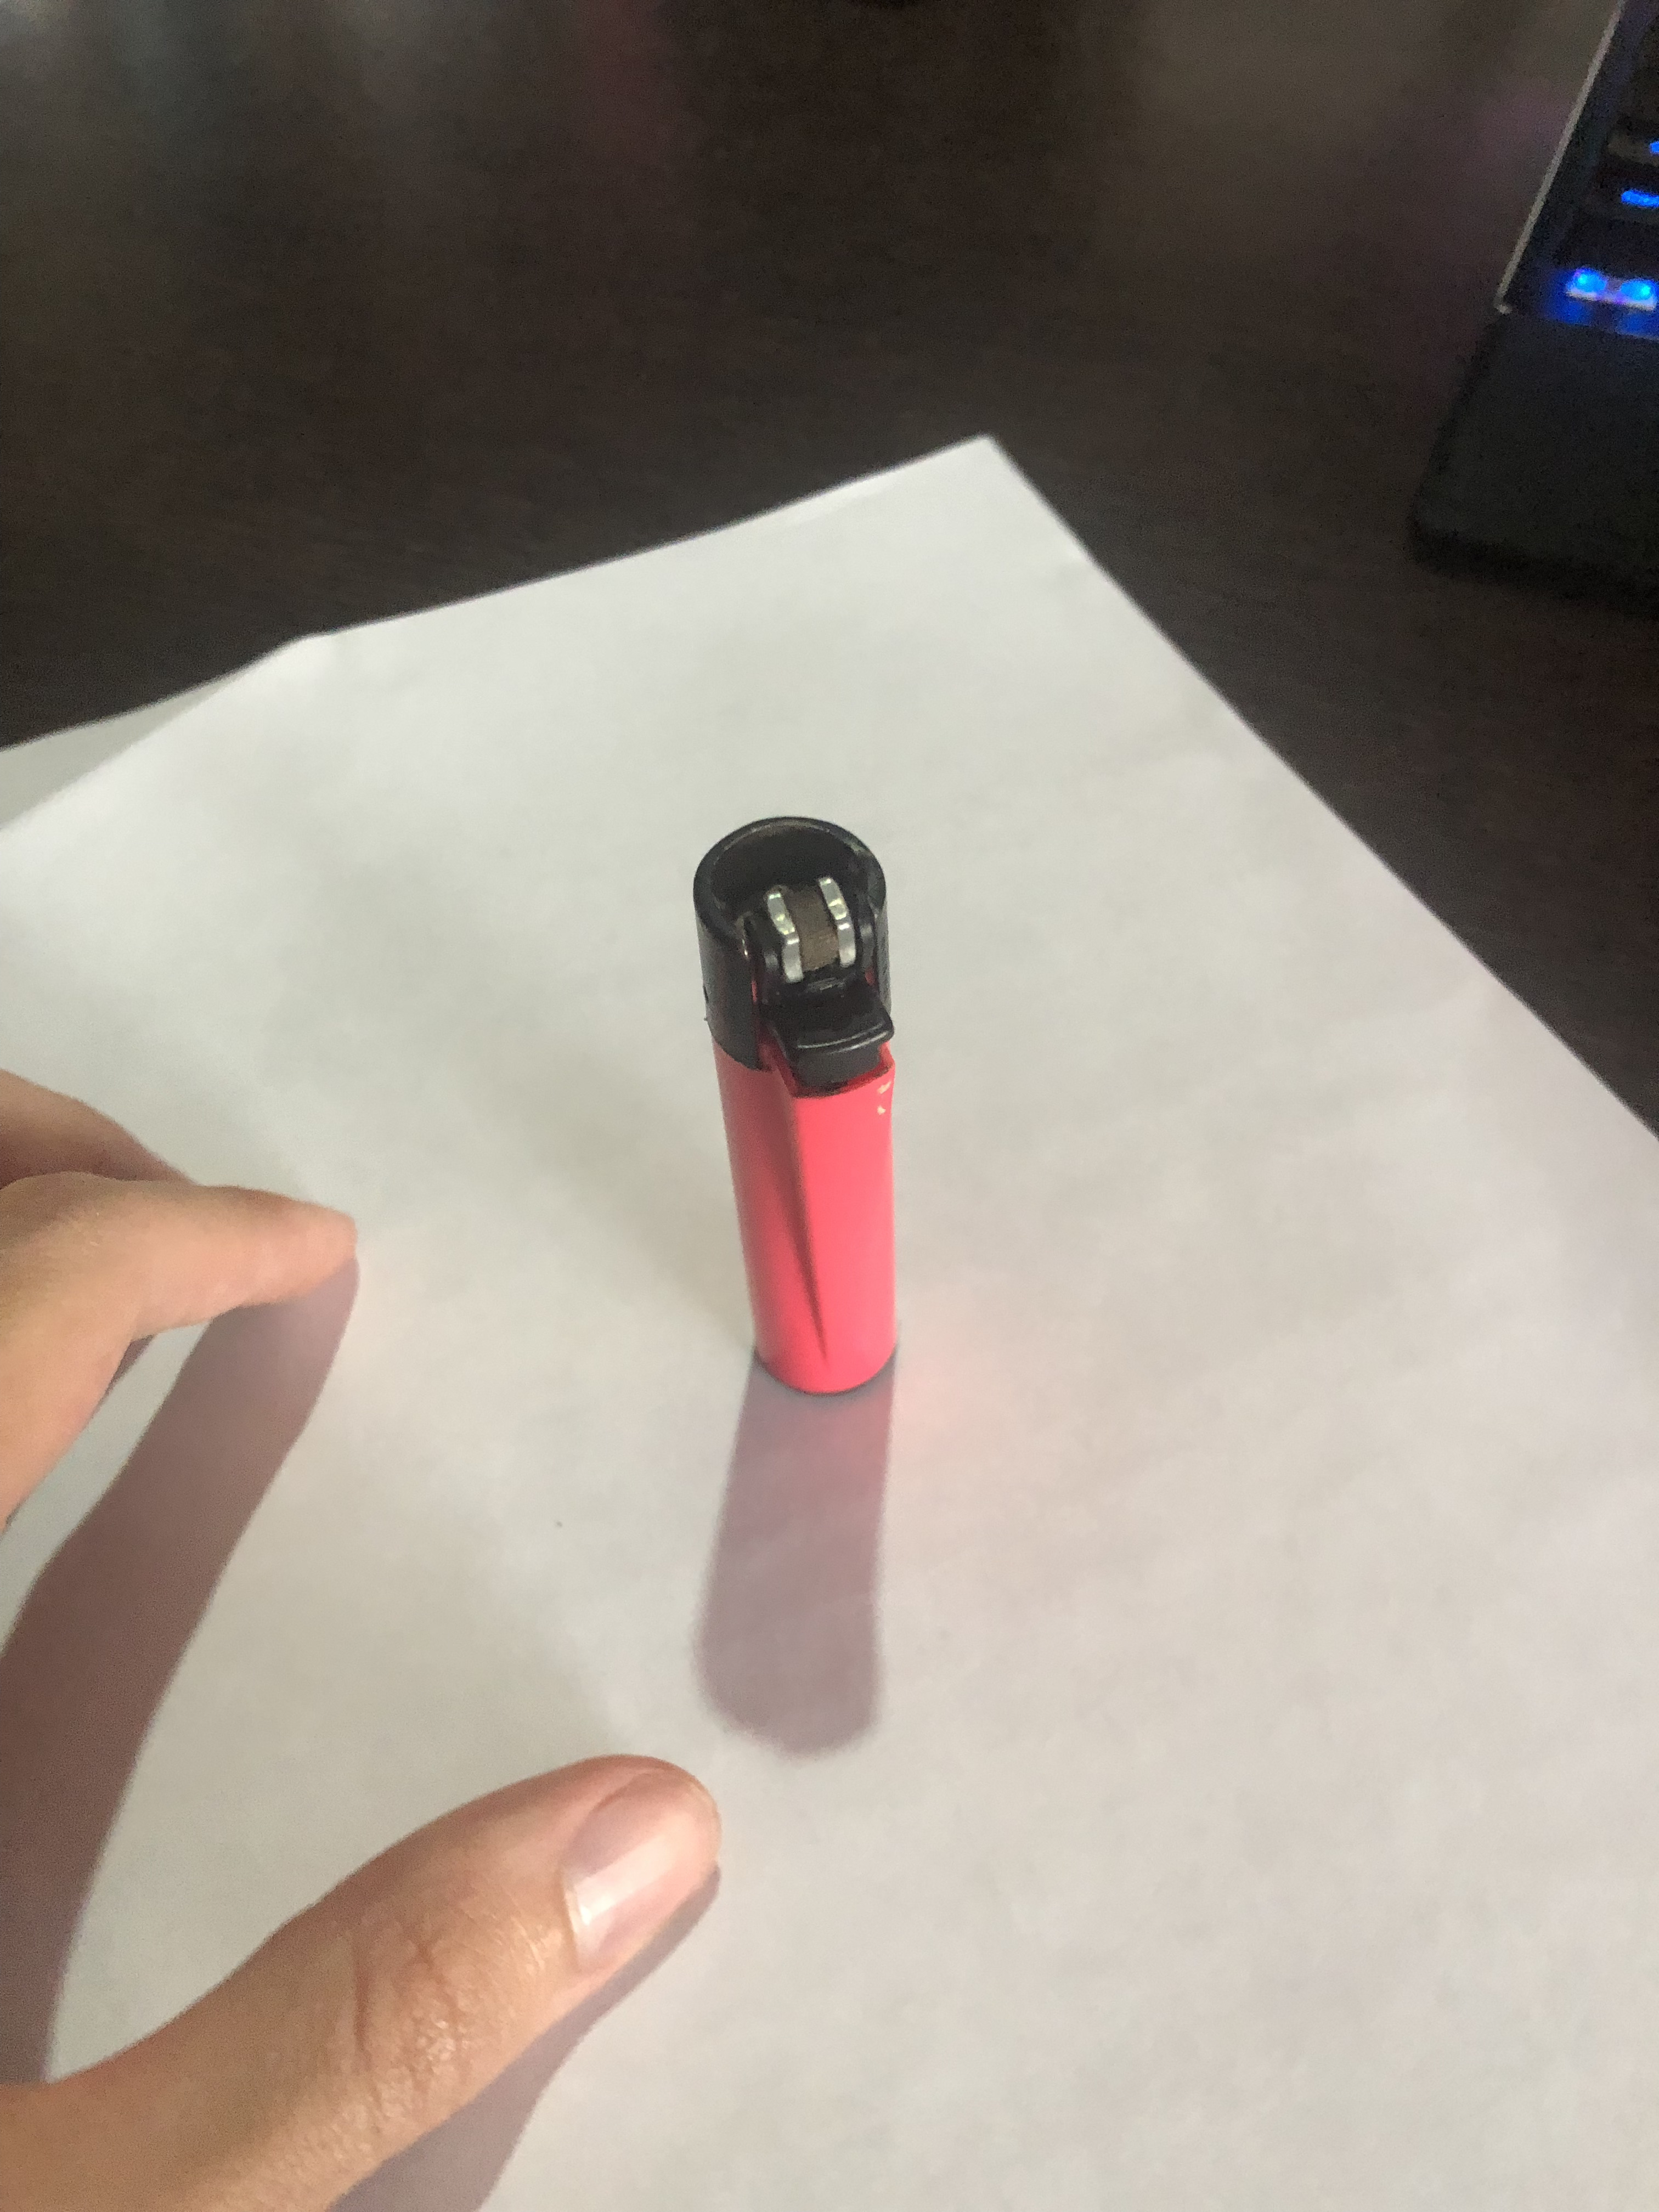Mechero: (666, 806, 925, 1420)
